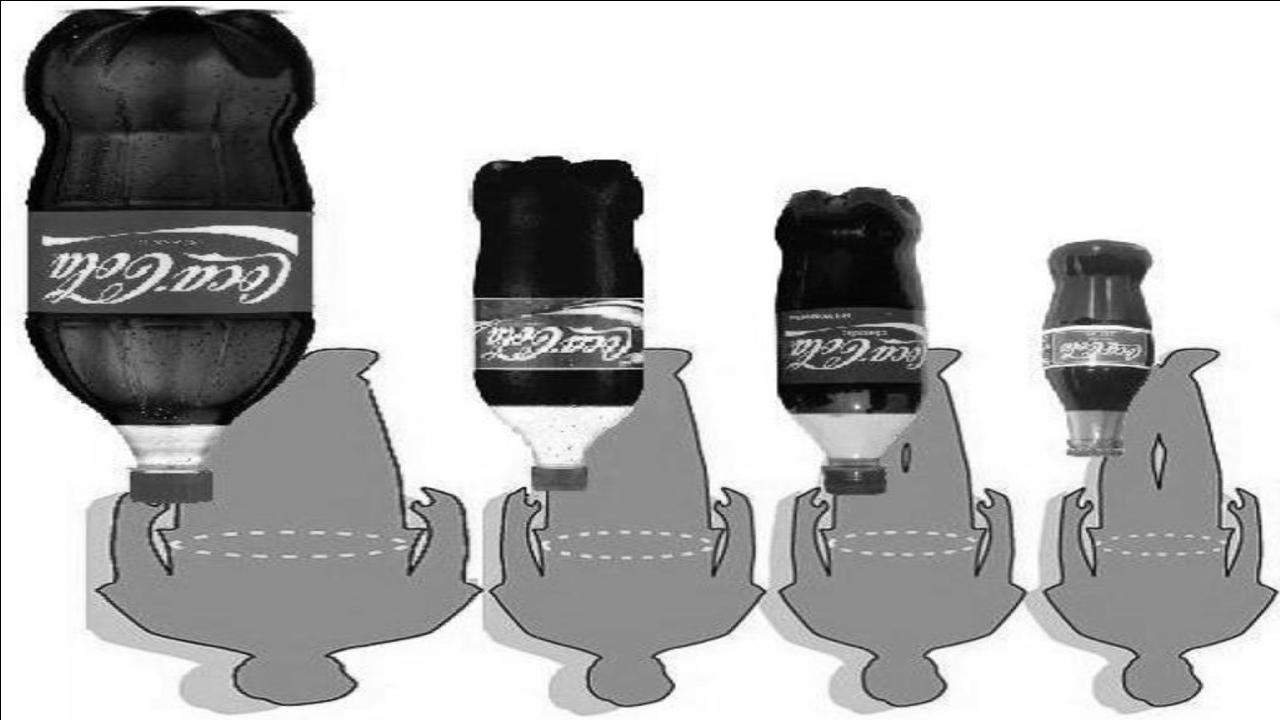bottle_cap: (124, 466, 216, 505), (822, 469, 888, 495), (530, 466, 589, 492), (1066, 446, 1125, 456)
